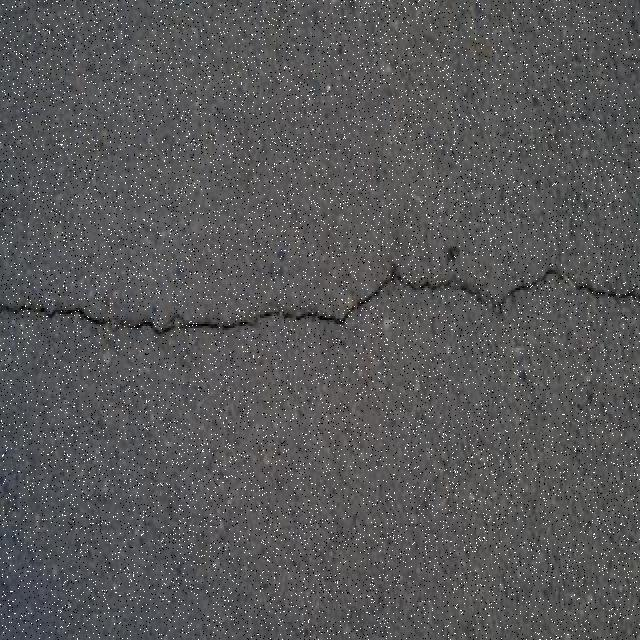minor crack: (194, 272, 390, 329), (6, 300, 123, 324), (286, 308, 343, 324)
severe crack: (2, 17, 638, 344), (374, 261, 631, 313), (504, 278, 536, 297), (142, 320, 179, 335)
